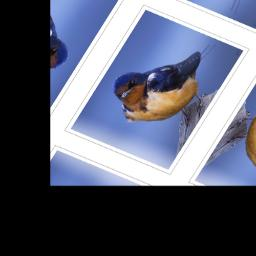Swallow: (95, 17, 240, 145)
